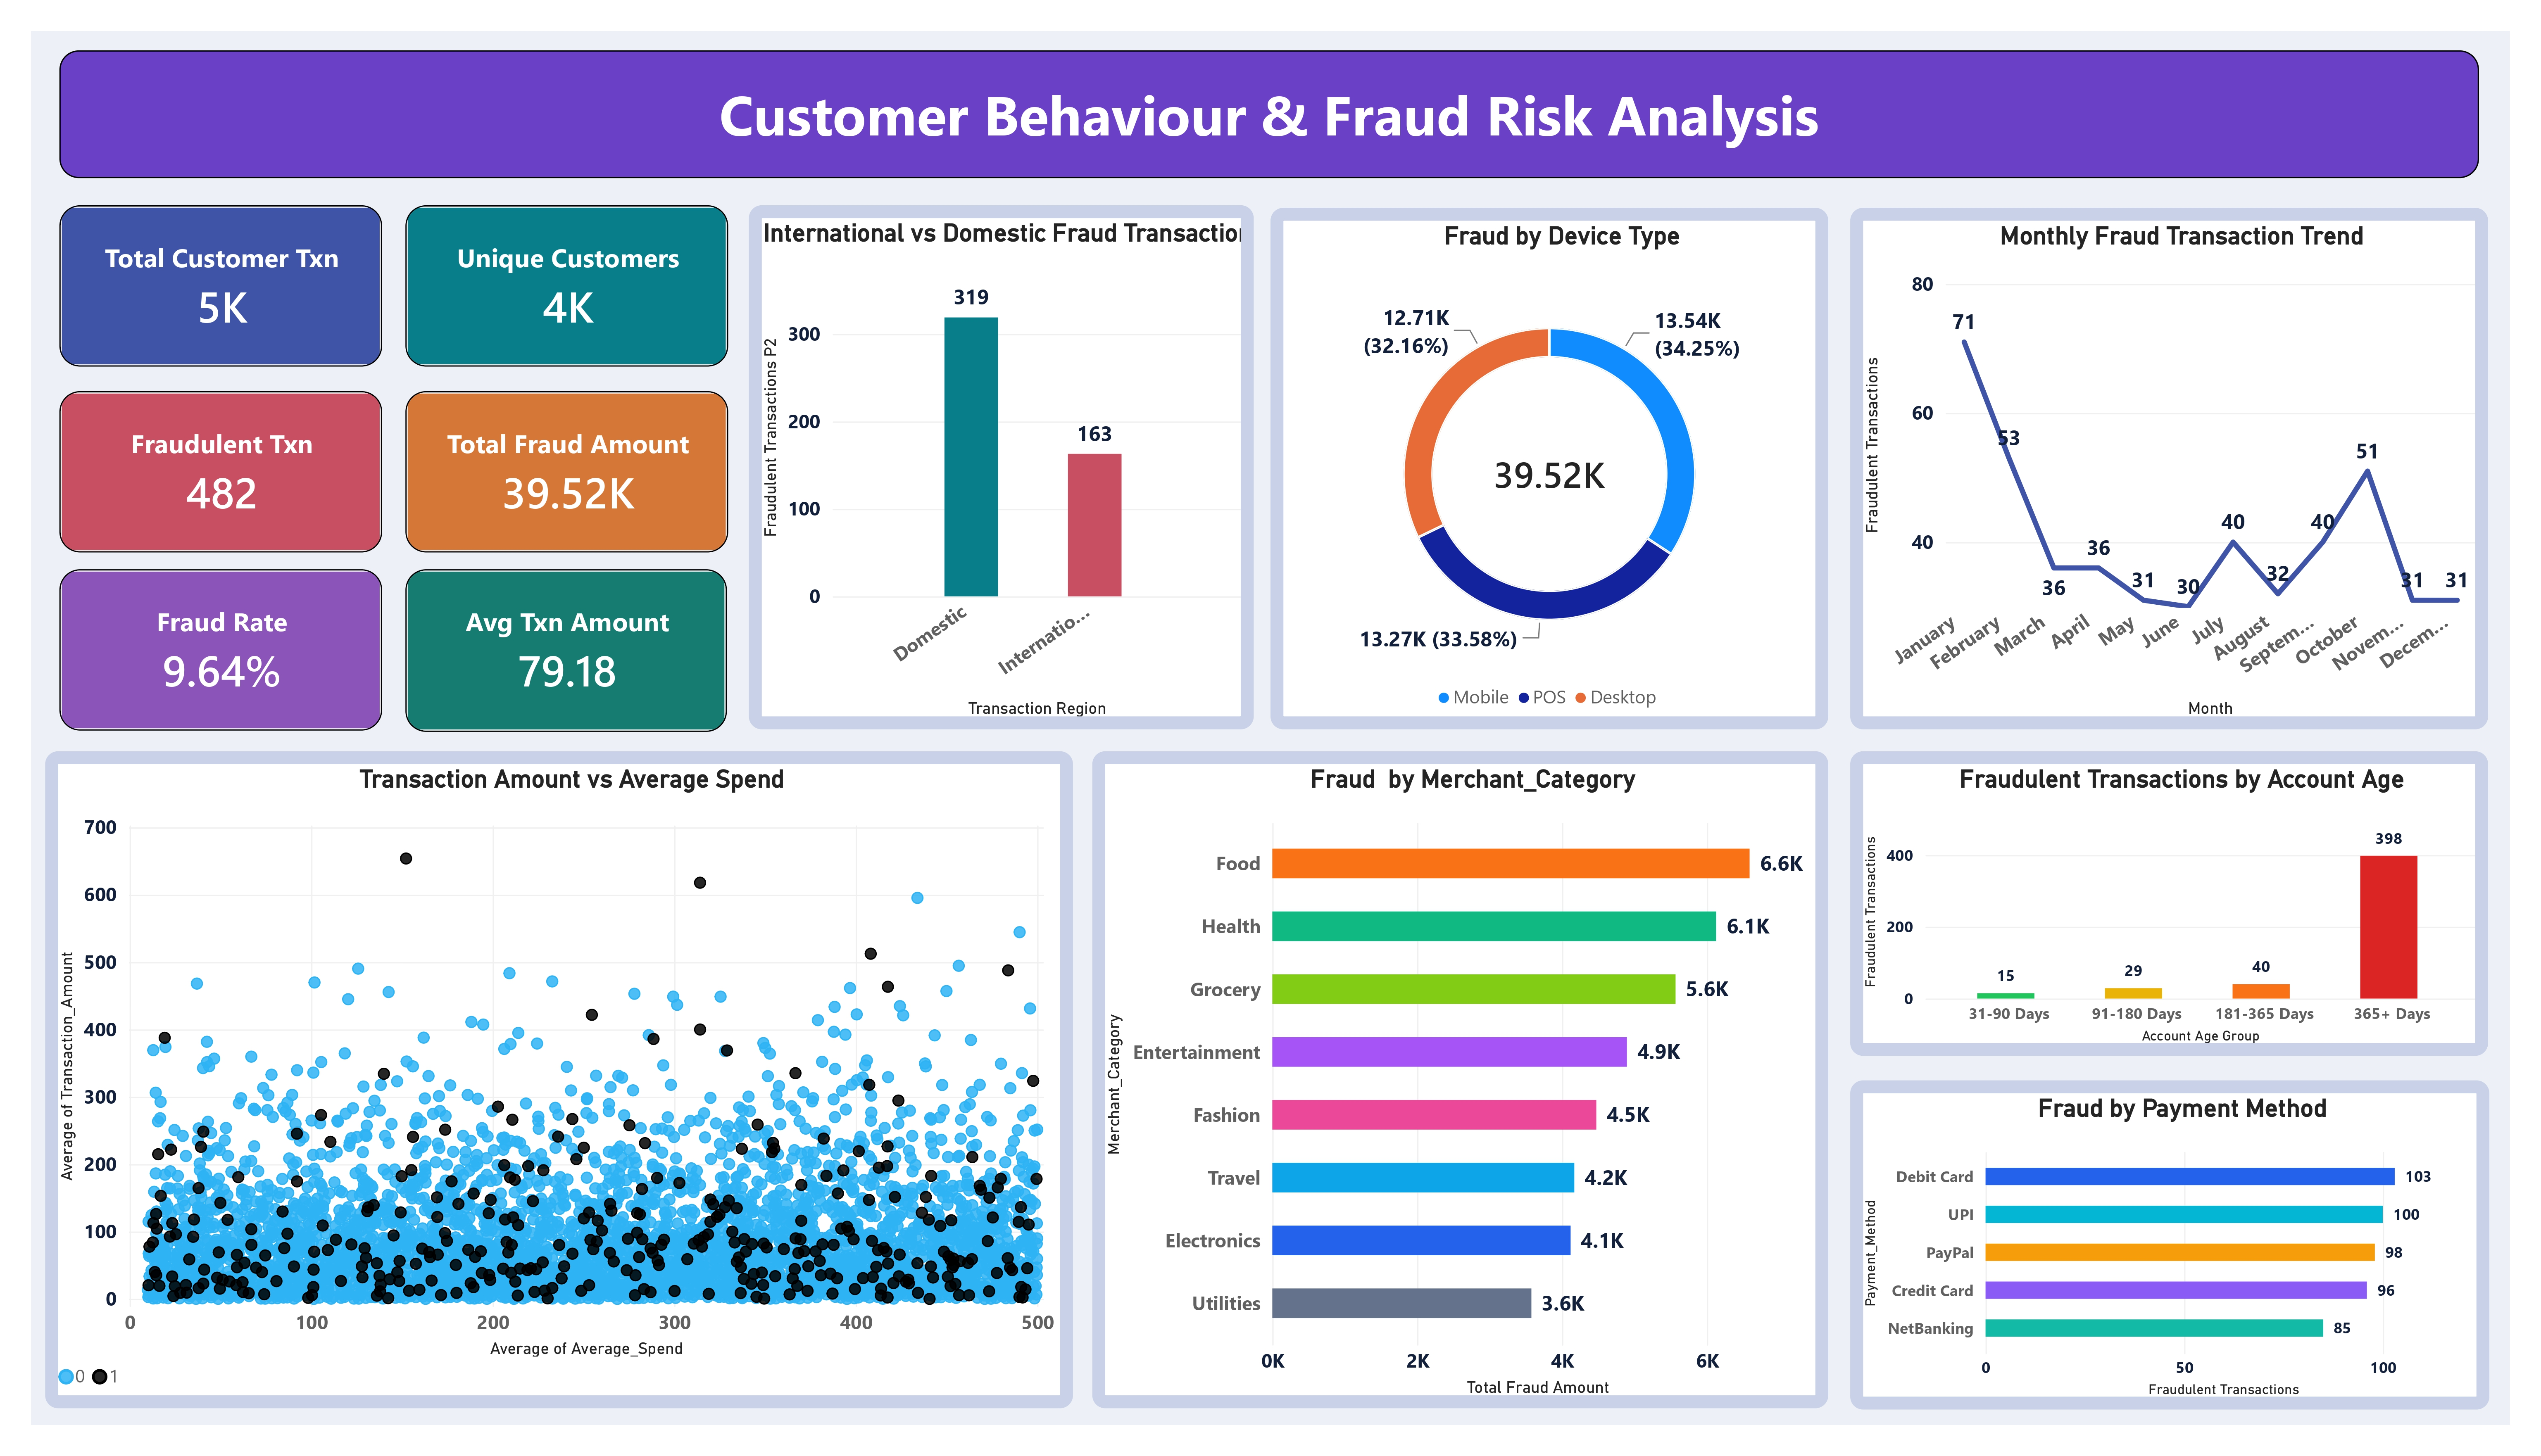

The dashboard page shown, as its layout file describes it:
{"tool":"powerbi","page":{"name":"Page 2","canvas":[1920,1080],"ordinal":1},"visuals":[{"type":"textbox","box":[22.2,14.8,1873.8,99.7],"z":0},{"type":"cardVisual","fields":{"Data":["Customer_Fraud.Total Customer Transactions P2"]},"box":[22.2,134.8,250,125],"z":1000},{"type":"cardVisual","fields":{"Data":["Customer_Fraud.Fraudulent Transactions P2"]},"box":[22.2,278.8,250,125],"z":2000},{"type":"cardVisual","fields":{"Data":["Customer_Fraud.Fraud Rate P2"]},"box":[22.2,417.2,250,125],"z":3000},{"type":"cardVisual","fields":{"Data":["Customer_Fraud.Total Fraud Amount P2"]},"box":[289.8,278.8,250,125],"z":4000},{"type":"cardVisual","fields":{"Data":["Customer_Fraud.Unique Customers P2"]},"box":[289.8,134.8,250,125],"z":5000},{"type":"clusteredBarChart","title":"Fraud by Payment Method","fields":{"Category":["Customer_Fraud.Payment_Method"],"Y":["Customer_Fraud.Fraudulent Transactions P2"]},"box":[1408.8,812.5,495,255],"z":6000},{"type":"clusteredBarChart","title":"Fraud  by Merchant_Category","fields":{"Category":["Customer_Fraud.Merchant_Category"],"Y":["Customer_Fraud.Total Fraud Amount P2"]},"box":[821.5,557.5,570.5,509.5],"z":7000},{"type":"donutChart","title":" Fraud by Device Type","fields":{"Category":["Customer_Fraud.Device_Type"],"Y":["Customer_Fraud.Total Fraud Amount P2"]},"box":[960,136.6,432,404.3],"z":8000},{"type":"lineChart","title":"Monthly Fraud Transaction Trend","fields":{"Category":["Customer_Fraud.Transaction_Date.Variation.Date Hierarchy.Month"],"Y":["Customer_Fraud.Fraudulent Transactions P2"]},"box":[1408.6,136.6,494.8,404.3],"z":9000},{"type":"columnChart","title":"International vs Domestic Fraud Transactions","fields":{"Category":["Customer_Fraud.Transaction Region P2"],"Y":["Customer_Fraud.Fraudulent Transactions P2"]},"box":[555.7,134.8,391.4,406.2],"z":10000},{"type":"clusteredColumnChart","title":"Fraudulent Transactions by Account Age","fields":{"Category":["Customer_Fraud.Account Age Group P2"],"Y":["Customer_Fraud.Fraudulent Transactions P2"]},"box":[1408.6,557.5,494.8,236.3],"z":11000},{"type":"scatterChart","title":"Transaction Amount vs Average Spend","fields":{"Category":["Customer_Fraud.Transaction_ID"],"Series":["Customer_Fraud.Fraudulent"],"X":["Customer_Fraud.Average_Spend"],"Y":["Avg(Customer_Fraud.Transaction_Amount)"]},"box":[11.1,557.5,795.7,509.5],"z":12000},{"type":"cardVisual","fields":{"Data":["Customer_Fraud.Average Transaction Amount P2"]},"box":[289.8,417.2,249.2,125.5],"z":13000}]}

Visuals, with their boxes on the page's 1920x1080 design canvas (x1, y1, x2, y2). These are canvas units, not pixel positions in the 2541x1456 screenshot, which may show the page scaled, cropped or inside an application window:
textbox: x1=22, y1=15, x2=1896, y2=114
cardVisual - Customer_Fraud.Total Customer Transactions P2: x1=22, y1=135, x2=272, y2=260
cardVisual - Customer_Fraud.Fraudulent Transactions P2: x1=22, y1=279, x2=272, y2=404
cardVisual - Customer_Fraud.Fraud Rate P2: x1=22, y1=417, x2=272, y2=542
cardVisual - Customer_Fraud.Total Fraud Amount P2: x1=290, y1=279, x2=540, y2=404
cardVisual - Customer_Fraud.Unique Customers P2: x1=290, y1=135, x2=540, y2=260
"Fraud by Payment Method" clusteredBarChart: x1=1409, y1=812, x2=1904, y2=1068
"Fraud  by Merchant_Category" clusteredBarChart: x1=822, y1=558, x2=1392, y2=1067
" Fraud by Device Type" donutChart: x1=960, y1=137, x2=1392, y2=541
"Monthly Fraud Transaction Trend" lineChart: x1=1409, y1=137, x2=1903, y2=541
"International vs Domestic Fraud Transactions" columnChart: x1=556, y1=135, x2=947, y2=541
"Fraudulent Transactions by Account Age" clusteredColumnChart: x1=1409, y1=558, x2=1903, y2=794
"Transaction Amount vs Average Spend" scatterChart: x1=11, y1=558, x2=807, y2=1067
cardVisual - Customer_Fraud.Average Transaction Amount P2: x1=290, y1=417, x2=539, y2=543
